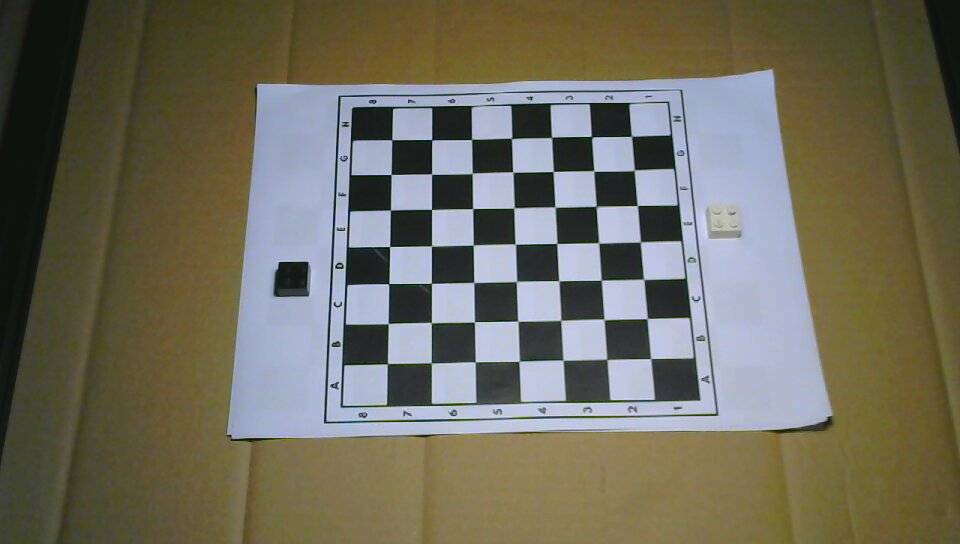bp: (275, 260, 311, 297)
wp: (704, 203, 743, 238)
